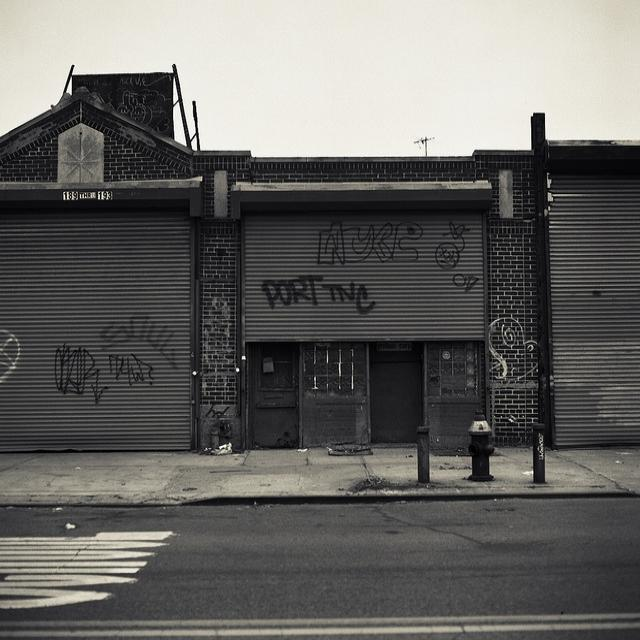fire_hydrant: (464, 408, 494, 480)
